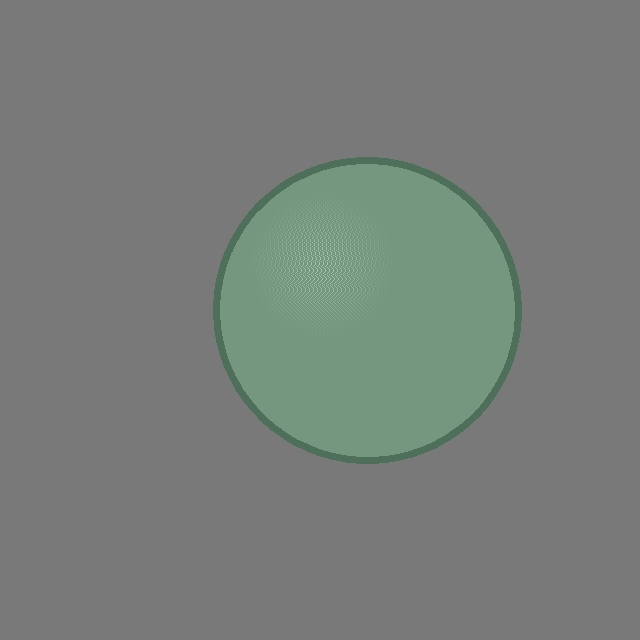lens: (216, 160, 518, 460)
